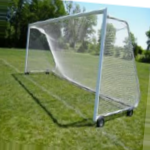goals: (24, 6, 141, 119)
